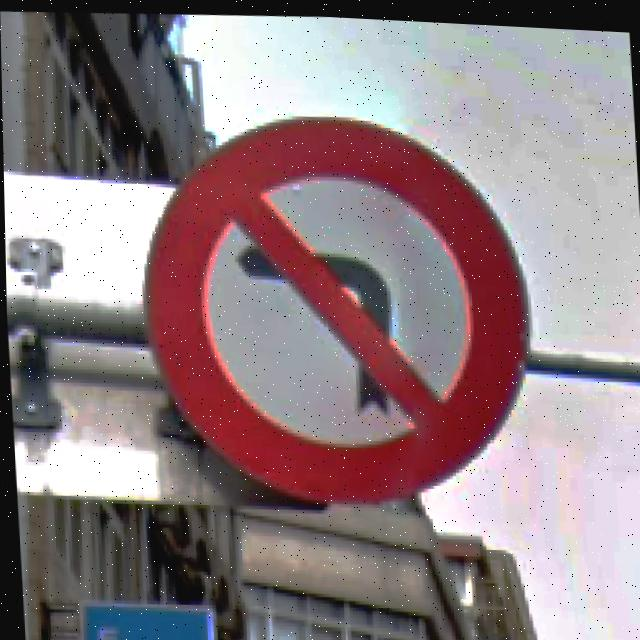noturnleft: (128, 91, 537, 515)
